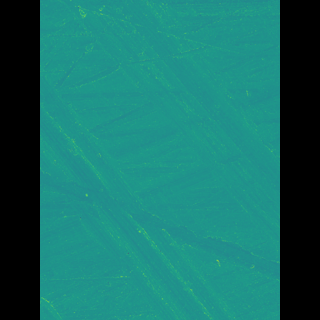Loch: (88, 0, 250, 257), (69, 69, 217, 319)
